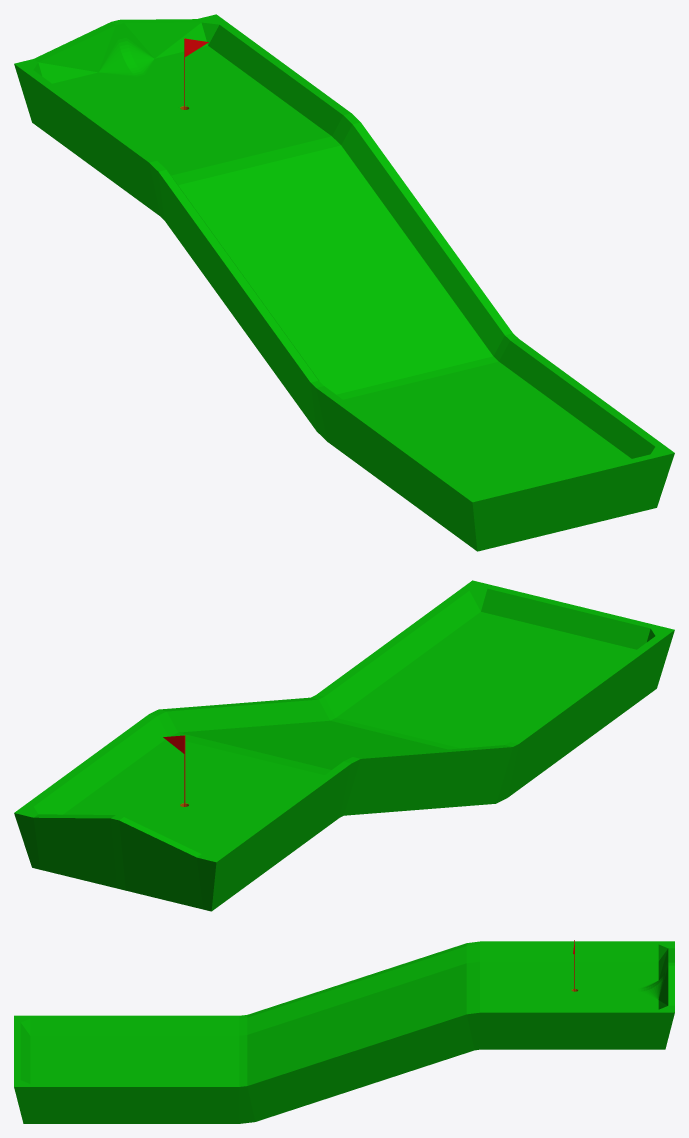
The model's file is level_2.glb.
The picture shows the model from 3 angles, top to bottom: view 1: azimuth 30°, elevation 25°; view 2: azimuth 150°, elevation 25°; view 3: azimuth 270°, elevation 25°; orthographic projection. The views are drawn at different scales.
Visible parts, largest first — view 1: green; view 2: green; view 3: green.
Boxes of the visible parts, bbox=[...] form: green: bbox=[14, 14, 674, 551]; green: bbox=[14, 580, 674, 911]; green: bbox=[14, 941, 674, 1123].
Size of the model in its own units: 2.48 by 2.47 by 9.73.
